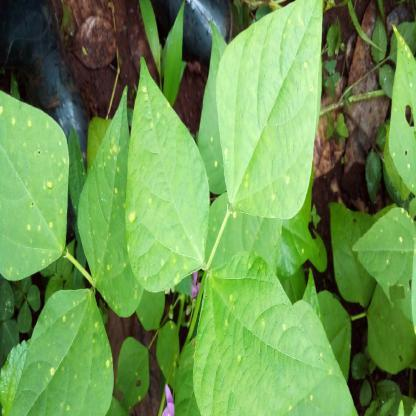Beans_Rust: (196, 262, 351, 416), (214, 0, 321, 216), (126, 53, 213, 288), (75, 89, 135, 320), (10, 286, 114, 416), (0, 89, 67, 278), (353, 206, 416, 316), (385, 22, 416, 202)
